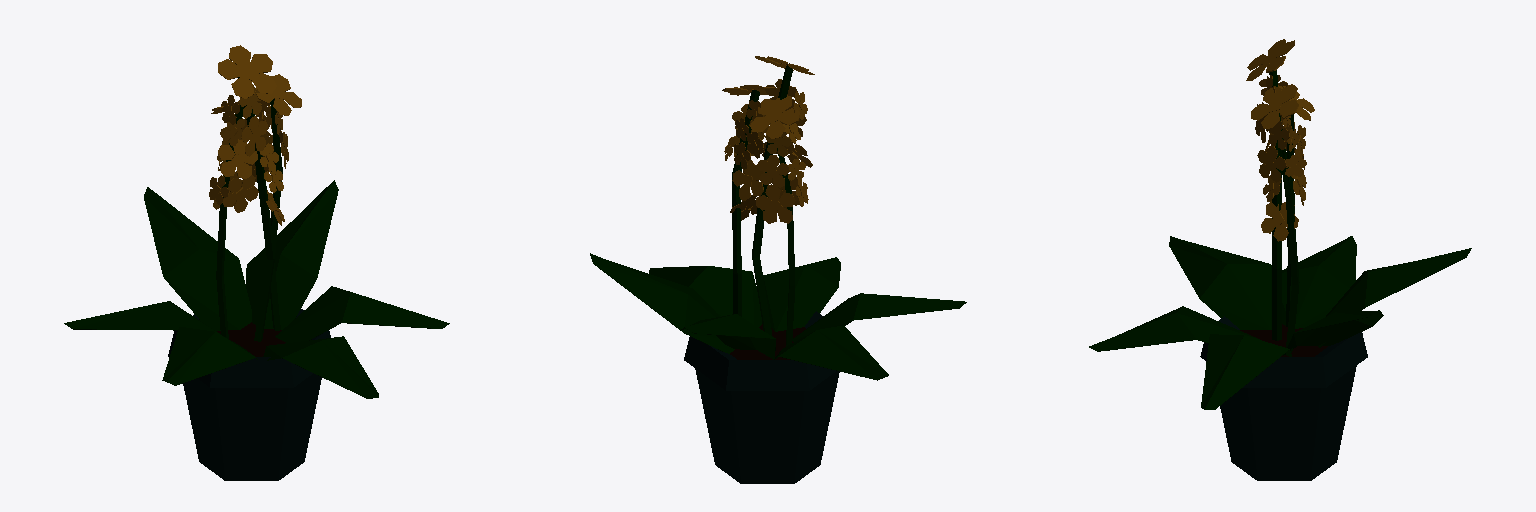
The model's file is FlowerPot6.obj.
3 views of the same model, side by side, from view 1: azimuth 30°, elevation 25°; view 2: azimuth 150°, elevation 25°; view 3: azimuth 270°, elevation 25° (orthographic).
Parts seen in each view (by area): view 1: FlowerPot6_Cylinder.012; view 2: FlowerPot6_Cylinder.012; view 3: FlowerPot6_Cylinder.012.
Boxes of the visible parts, x1=… form: FlowerPot6_Cylinder.012: x1=64, y1=45, x2=449, y2=480; FlowerPot6_Cylinder.012: x1=590, y1=56, x2=966, y2=483; FlowerPot6_Cylinder.012: x1=1089, y1=39, x2=1471, y2=480.
Size of the model in its own units: 0.9541 by 1.21 by 1.02.